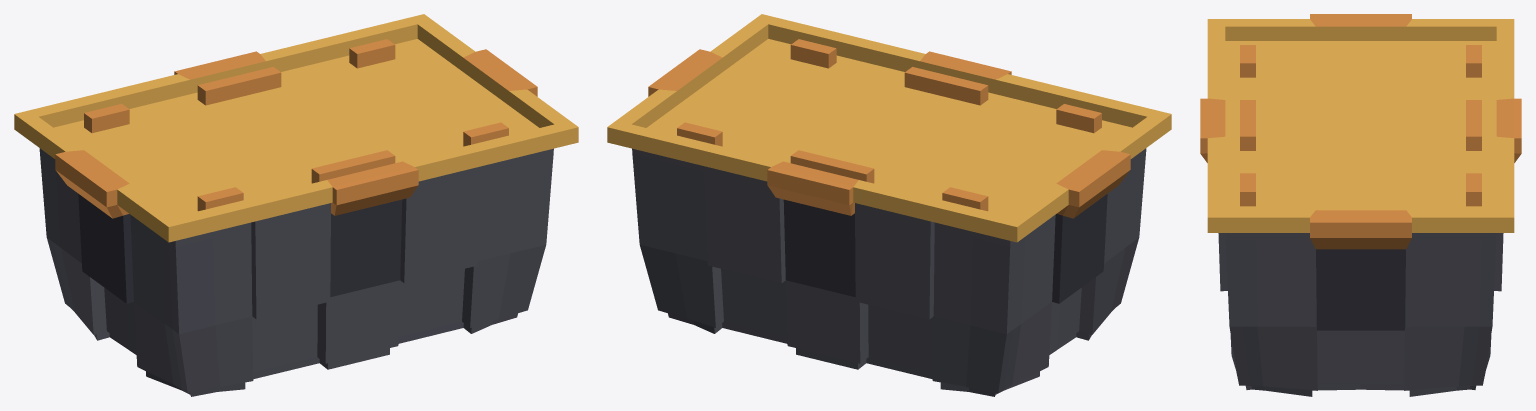
File: bin.fbx
The picture shows the model from 3 angles, left to right: view 1: azimuth 30°, elevation 25°; view 2: azimuth 150°, elevation 25°; view 3: azimuth 270°, elevation 25°; orthographic projection.
Parts seen in each view (by area): view 1: Cube; view 2: Cube; view 3: Cube.
Part boxes in pixels (box(x1,y1,x2,y2)): Cube: box(14, 14, 578, 396); Cube: box(607, 14, 1171, 396); Cube: box(1200, 14, 1521, 396).
Bounding box in the file's own units: 95.07 × 41.3 × 61.9.
